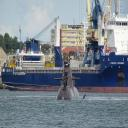submarine: (53, 60, 88, 100)
